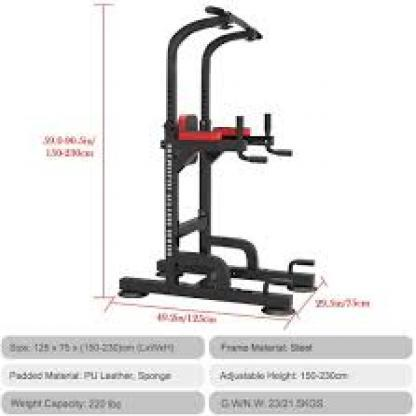chinning dipping: (119, 6, 320, 317)
